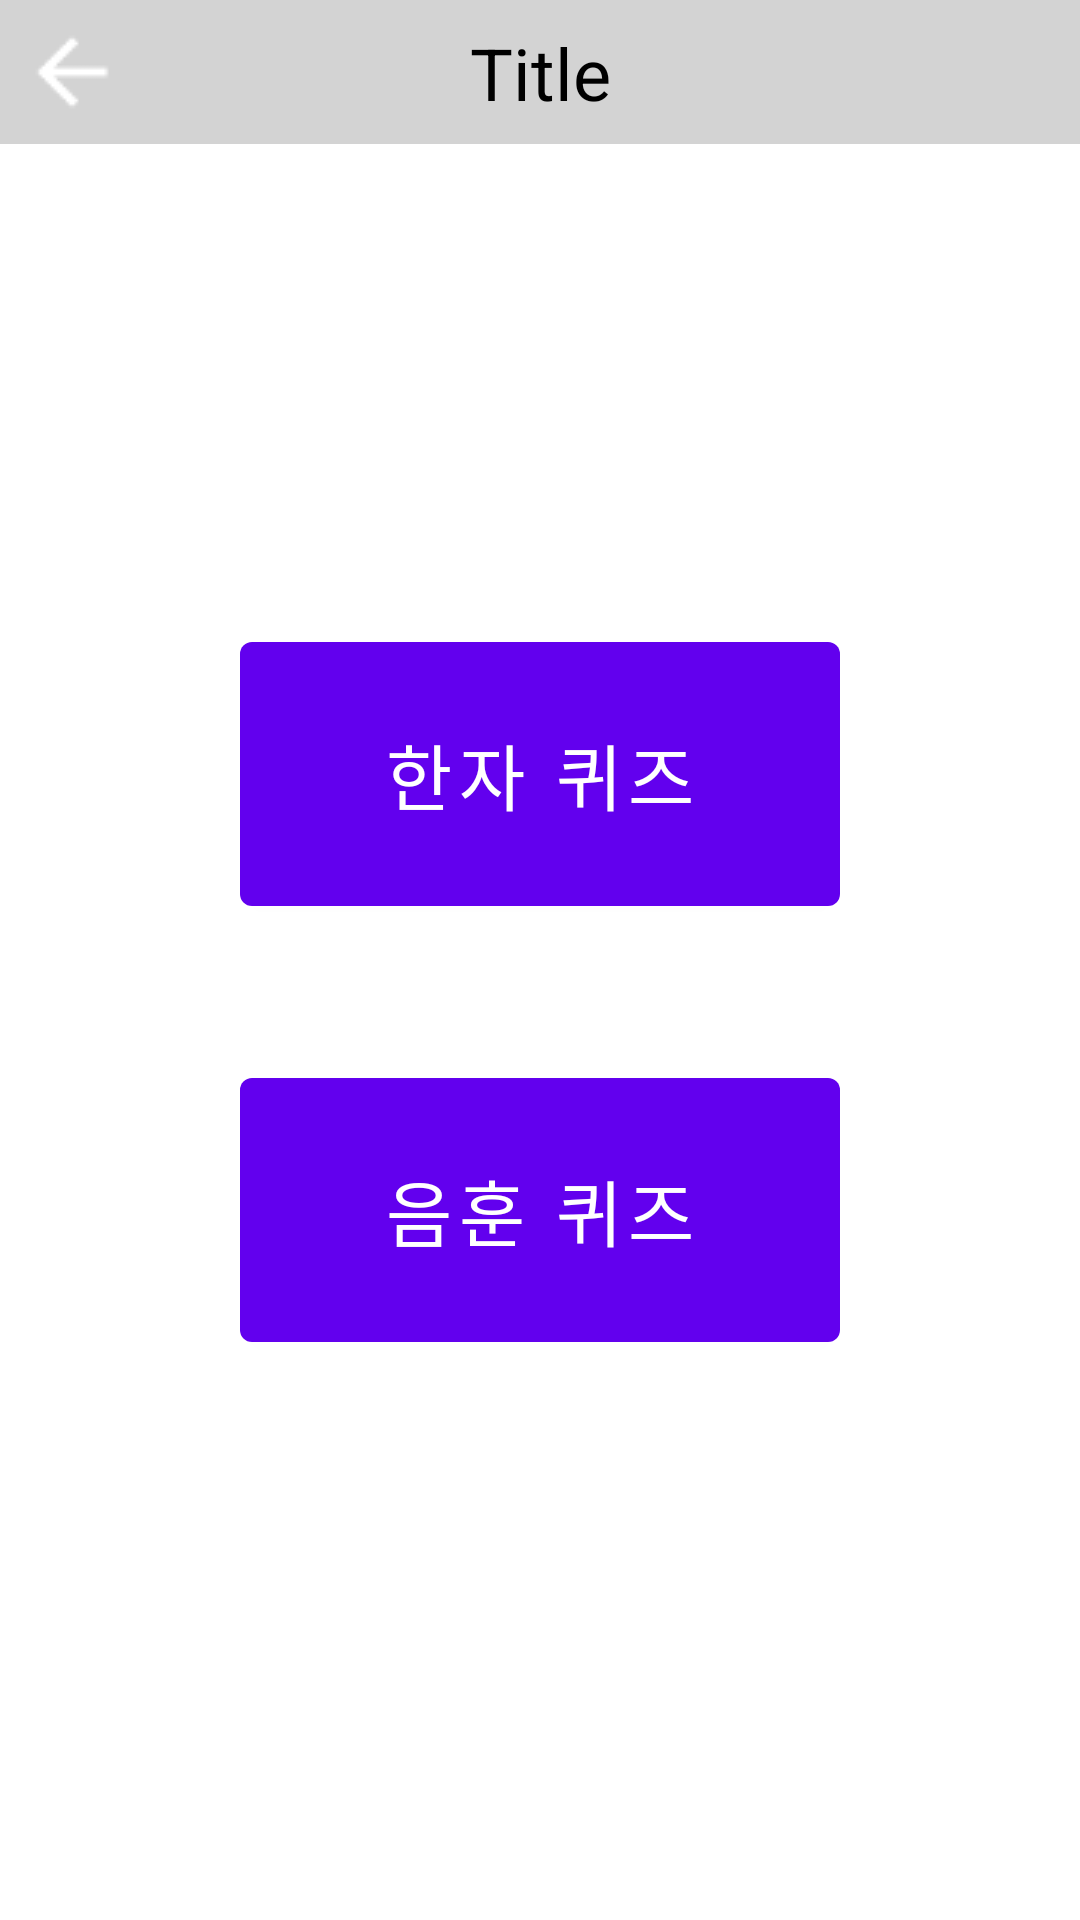

Where icons sit on this 1080px×1920px app screen, as bbox=(x1, y1, x2, y2):
arrow back: bbox=(39, 39, 107, 105)
